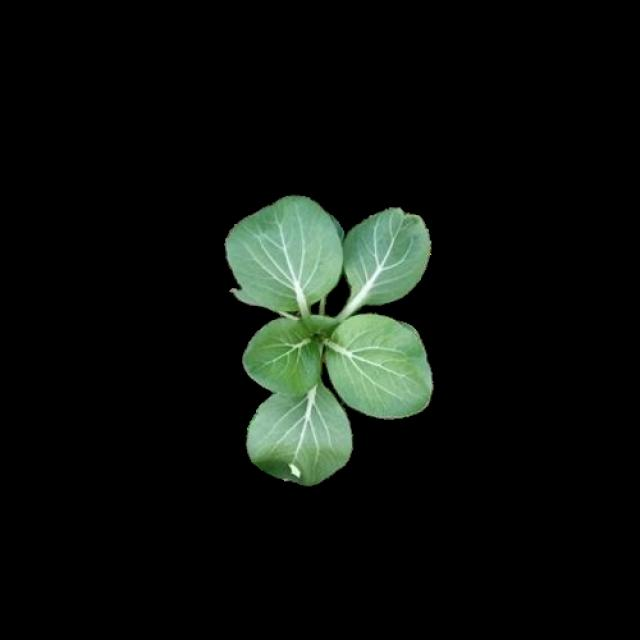not-mature: (226, 196, 432, 486)
unhealthy: (244, 380, 354, 483)
